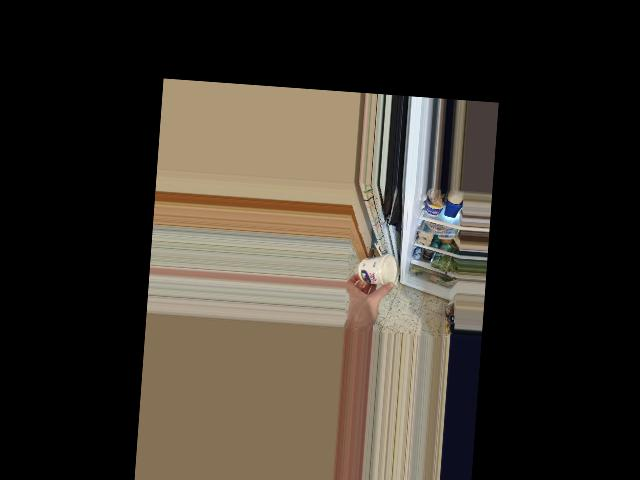cotage: (359, 253, 399, 287)
